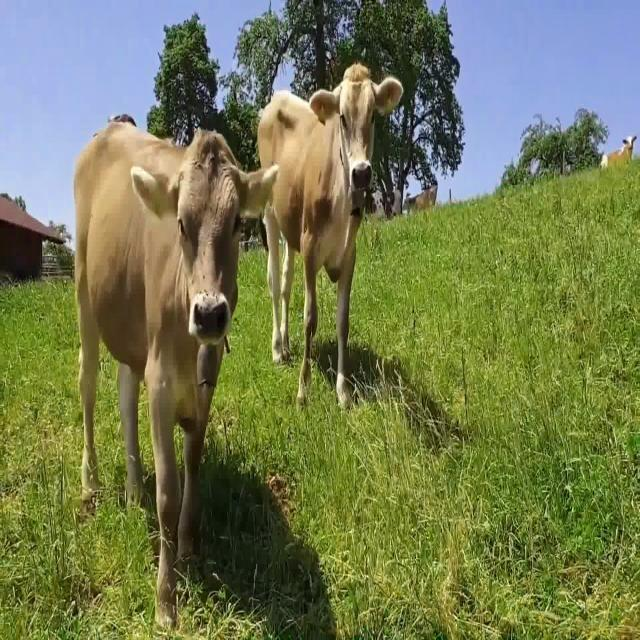cow: (75, 120, 276, 627), (258, 64, 402, 408)
